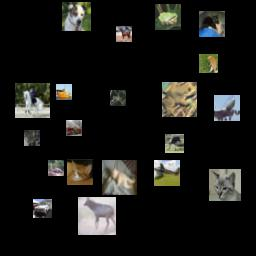airplane: (214, 95, 240, 121), (154, 160, 180, 186)
bird: (165, 134, 184, 153), (48, 160, 64, 176)
cat: (102, 160, 137, 195), (209, 169, 241, 201), (199, 11, 225, 37), (67, 159, 93, 185), (199, 54, 218, 73), (24, 130, 40, 146)
deer: (78, 197, 116, 235)
dog: (62, 2, 91, 31)
frog: (162, 82, 197, 117), (155, 4, 181, 30), (110, 90, 126, 106)
ship: (56, 84, 72, 100)
truck: (33, 199, 52, 218), (66, 120, 82, 136)
